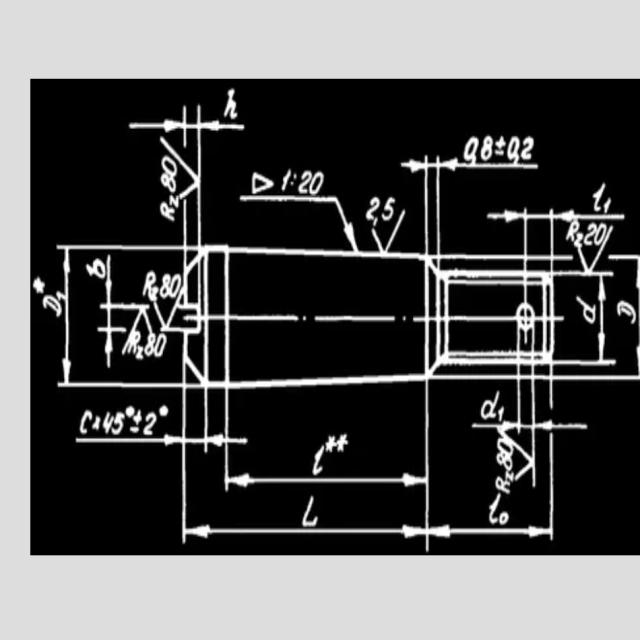marking_line: (179, 392, 432, 552), (51, 240, 181, 446), (424, 385, 558, 552), (222, 390, 430, 493), (55, 240, 182, 391), (125, 106, 244, 246), (554, 248, 640, 384), (435, 157, 538, 251), (130, 104, 189, 242), (193, 104, 246, 246), (98, 251, 154, 371), (71, 394, 181, 449), (556, 270, 616, 366), (545, 209, 625, 255), (537, 380, 594, 437), (470, 382, 524, 433), (403, 156, 430, 252), (207, 390, 249, 451), (487, 209, 530, 256)
numeric: (223, 90, 240, 117), (86, 257, 105, 280), (505, 137, 522, 162), (299, 166, 313, 195), (461, 135, 478, 158), (519, 134, 534, 160), (142, 410, 156, 436), (101, 411, 115, 437), (309, 172, 324, 196), (160, 153, 177, 174), (382, 197, 397, 220), (155, 332, 167, 360), (169, 275, 182, 300), (159, 272, 171, 298), (112, 408, 124, 434), (159, 173, 177, 190), (281, 168, 292, 195), (367, 193, 378, 220), (482, 134, 492, 163), (145, 334, 156, 359), (499, 511, 510, 525), (55, 291, 66, 302), (152, 284, 158, 302)
special_symbol: (240, 192, 361, 250), (159, 137, 197, 202), (500, 431, 532, 485), (372, 208, 404, 252), (123, 401, 136, 419), (33, 276, 45, 293), (602, 198, 613, 212), (159, 402, 169, 417), (290, 173, 296, 190)
